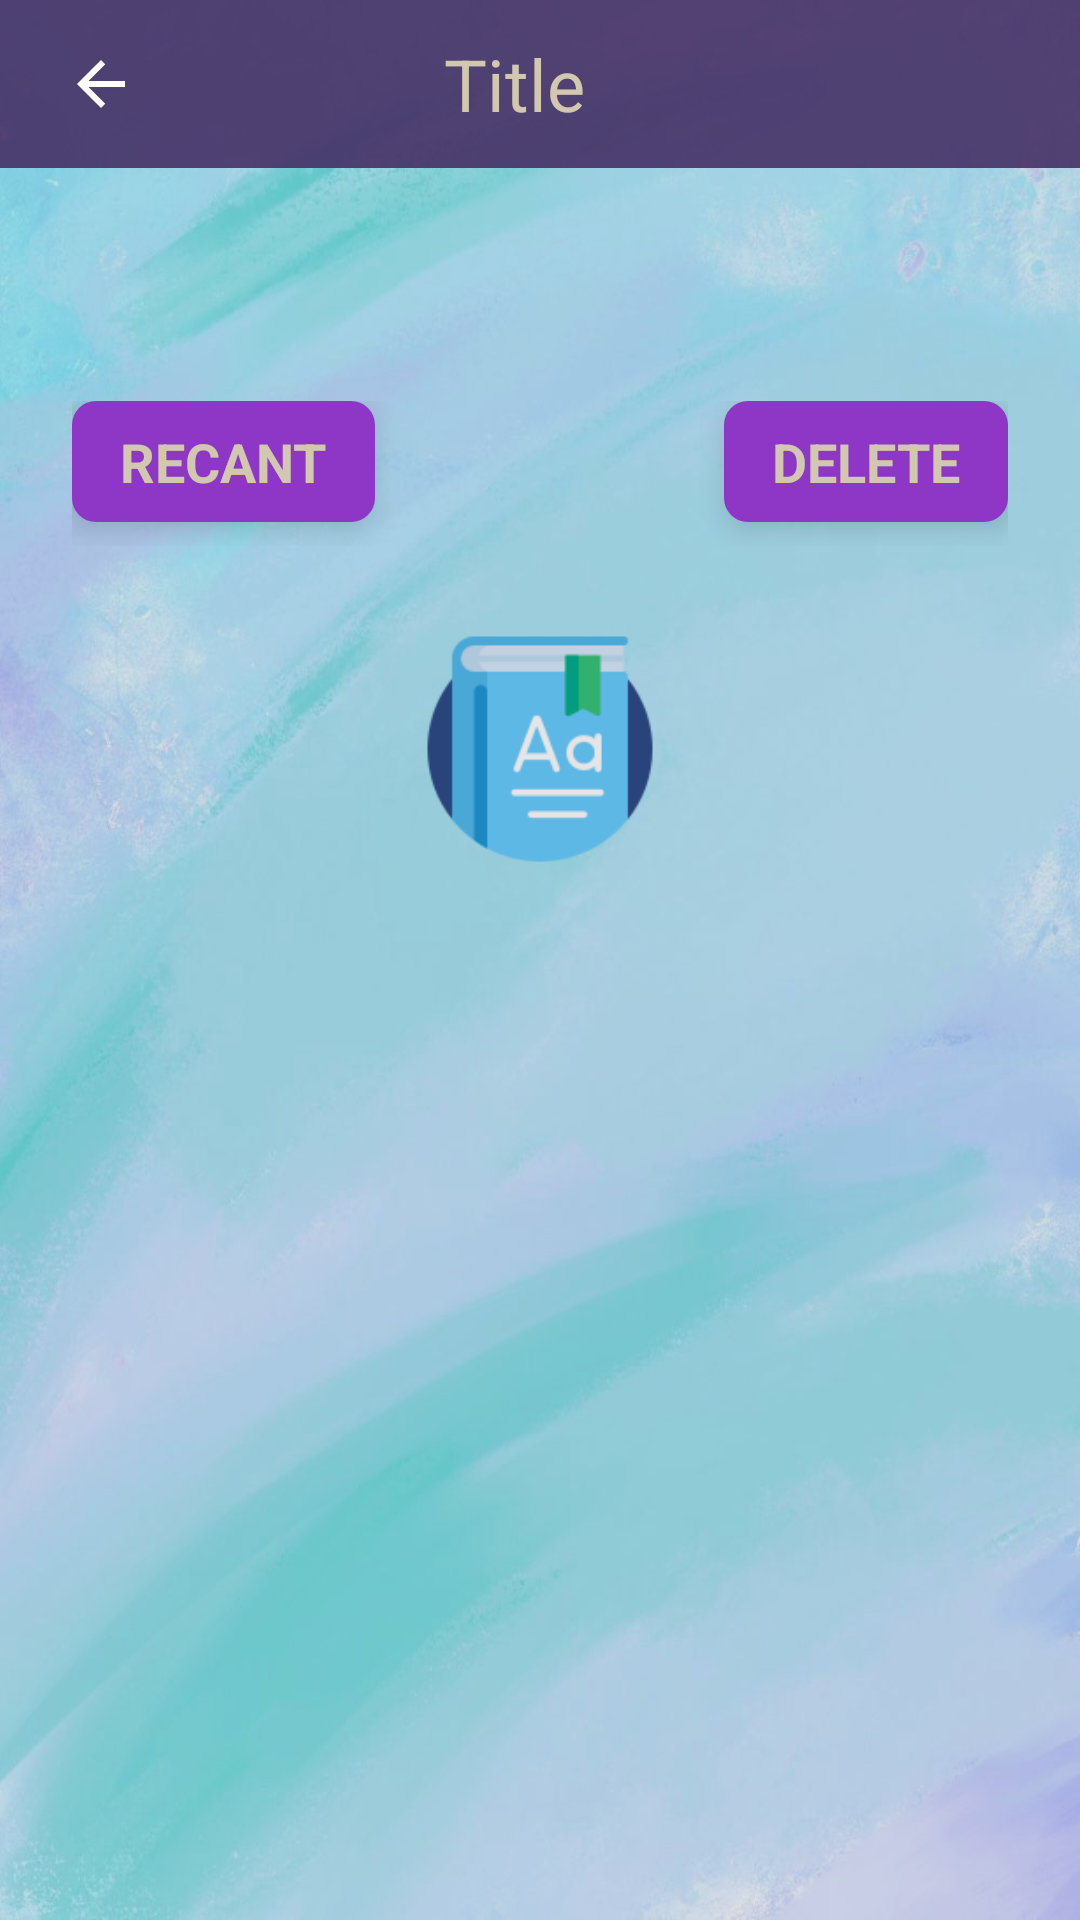

Screen size 1080px×1920px. Icon name, then its box in pixels as (x1, y1, x2, y2):
day night back: (77, 60, 125, 108)
